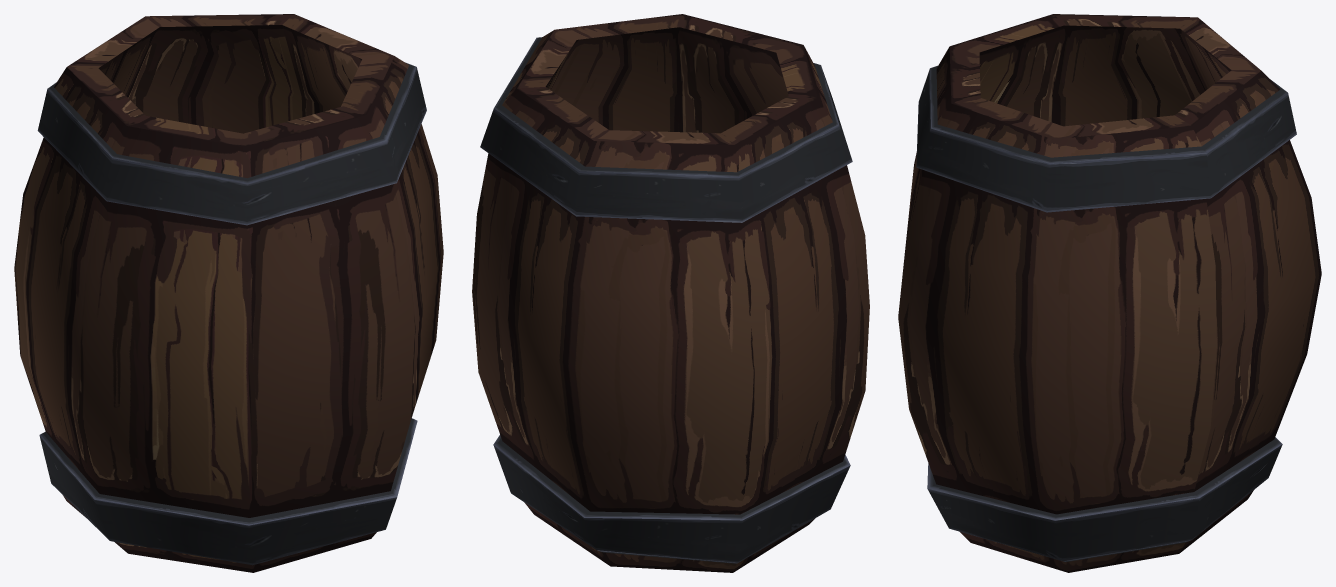
Rendered from SM_PROP_barrel_dungeon_02.fbx.
3 renders of one model, left to right at view 1: azimuth 30°, elevation 25°; view 2: azimuth 150°, elevation 25°; view 3: azimuth 270°, elevation 25°, orthographic.
Parts seen in each view (by area): view 1: SM_PROP_barrel_dungeon_02; view 2: SM_PROP_barrel_dungeon_02; view 3: SM_PROP_barrel_dungeon_02.
Boxes of the visible parts, <box> form: SM_PROP_barrel_dungeon_02: <box>14,14,443,572</box>; SM_PROP_barrel_dungeon_02: <box>472,14,869,572</box>; SM_PROP_barrel_dungeon_02: <box>898,14,1321,572</box>.
Bounding box in the file's own units: 72.77 × 84.83 × 74.9.
